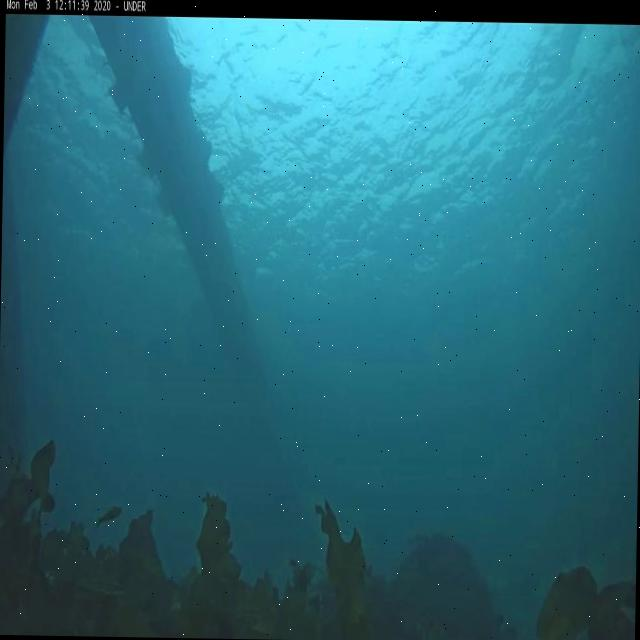fish: (80, 574, 128, 596), (98, 504, 121, 526)
